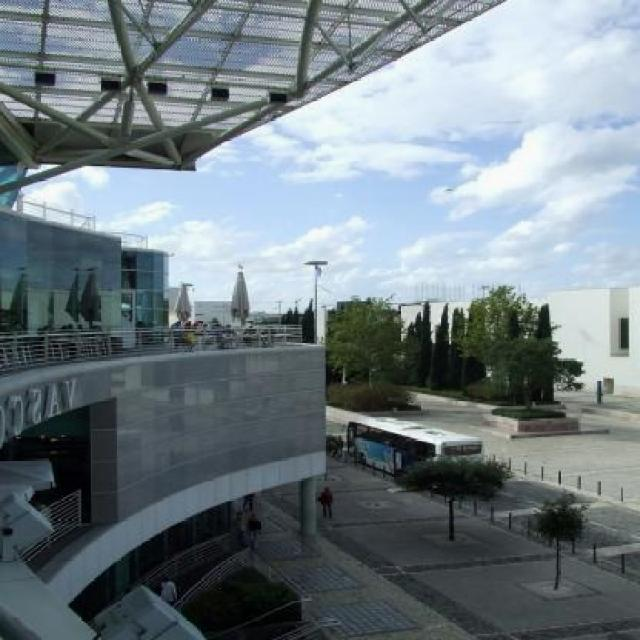Bus: (328, 396, 506, 504)
